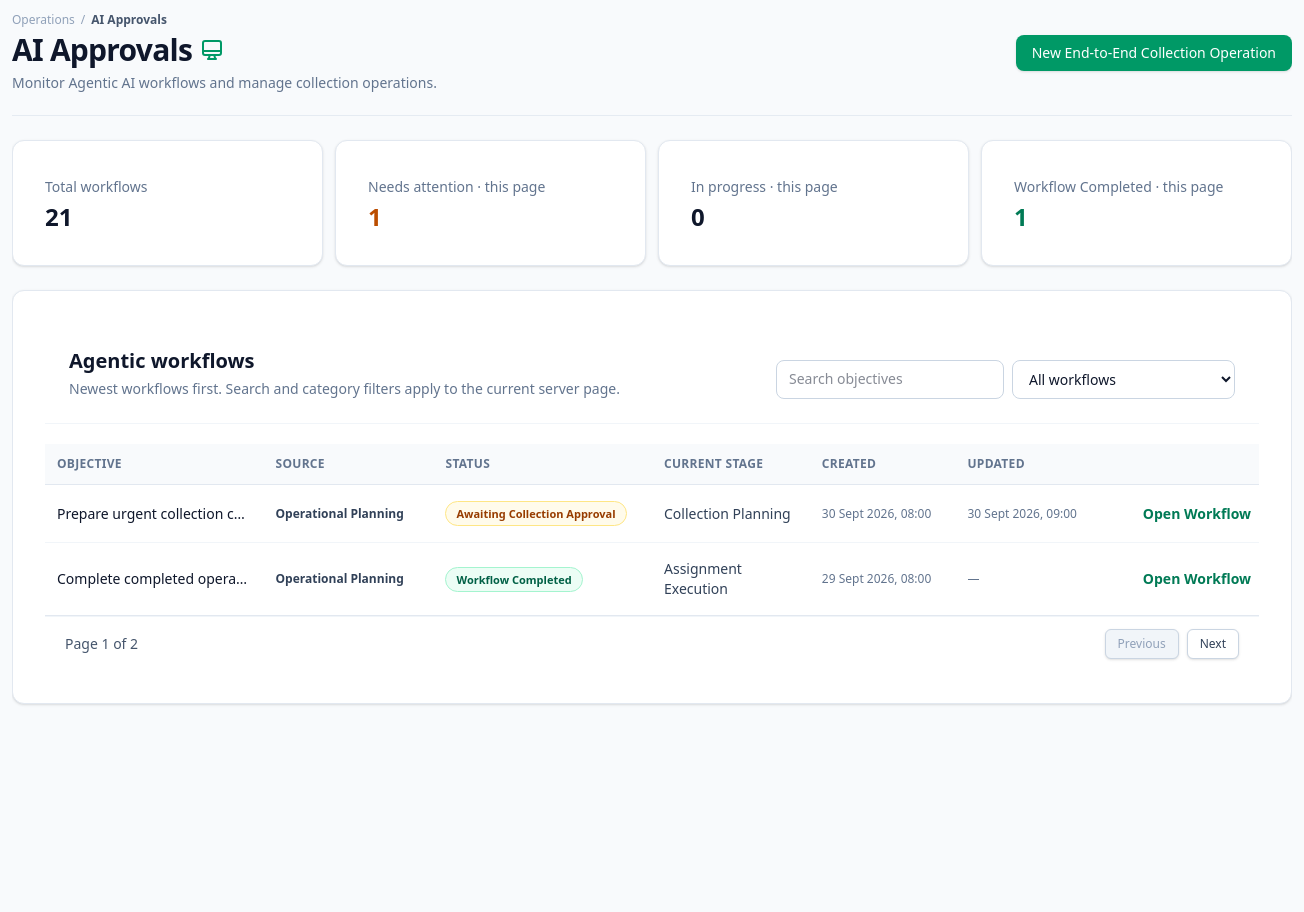
Scenario: AiApprovalsPage dashboard and initiation › requests the next server page when pagination advances
Expected: the text "Prepare urgent collection coverage." is shown, x1=57 y1=504 x2=252 y2=524
Click the button "Next". click: (1213, 644)
box: x1=1187 y1=630 x2=1239 y2=660
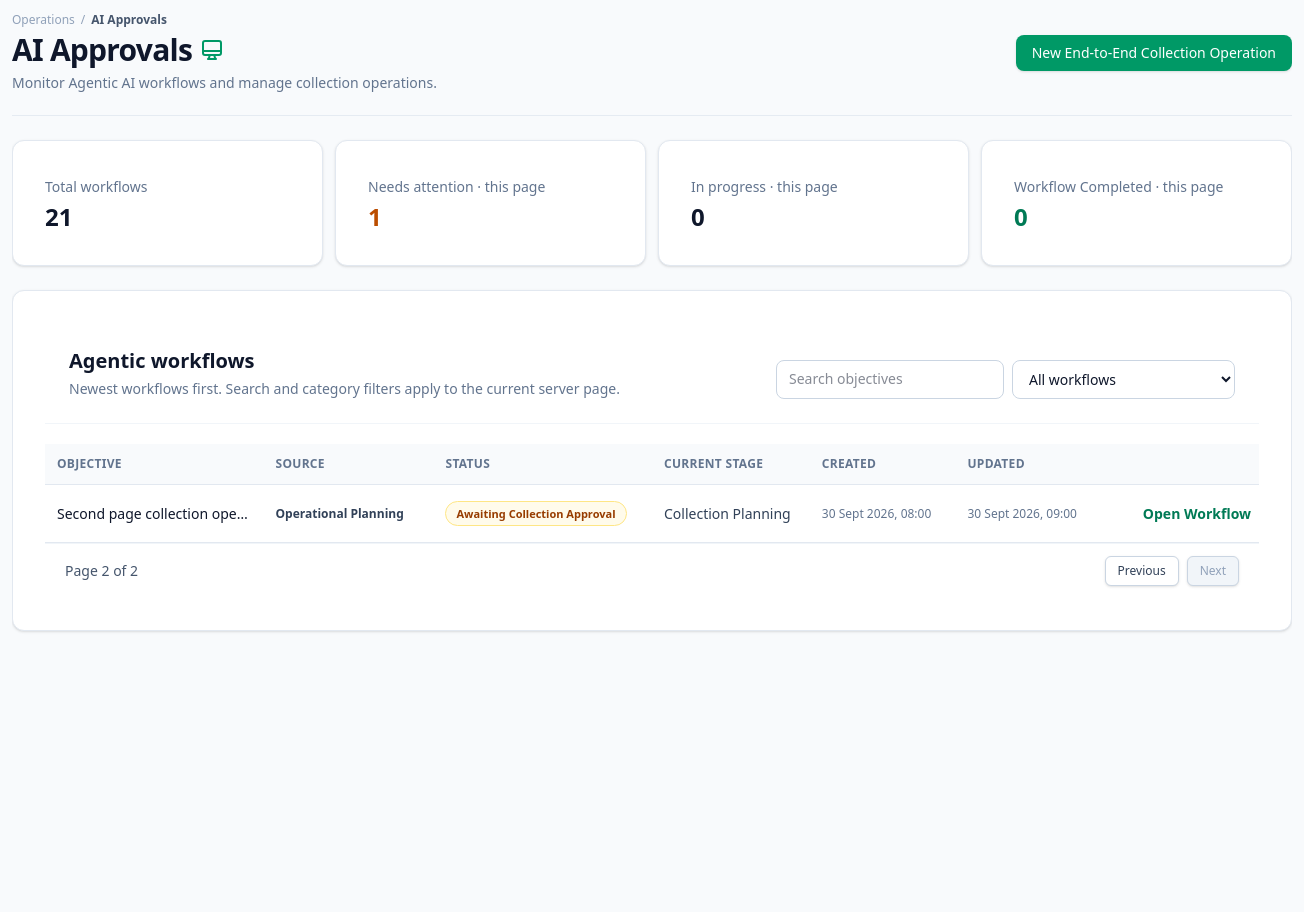
Expected: the text "Second page collection operation." is shown, x1=57 y1=504 x2=252 y2=524
Expected: the text "Page 2 of 2" is shown, x1=65 y1=562 x2=138 y2=582
